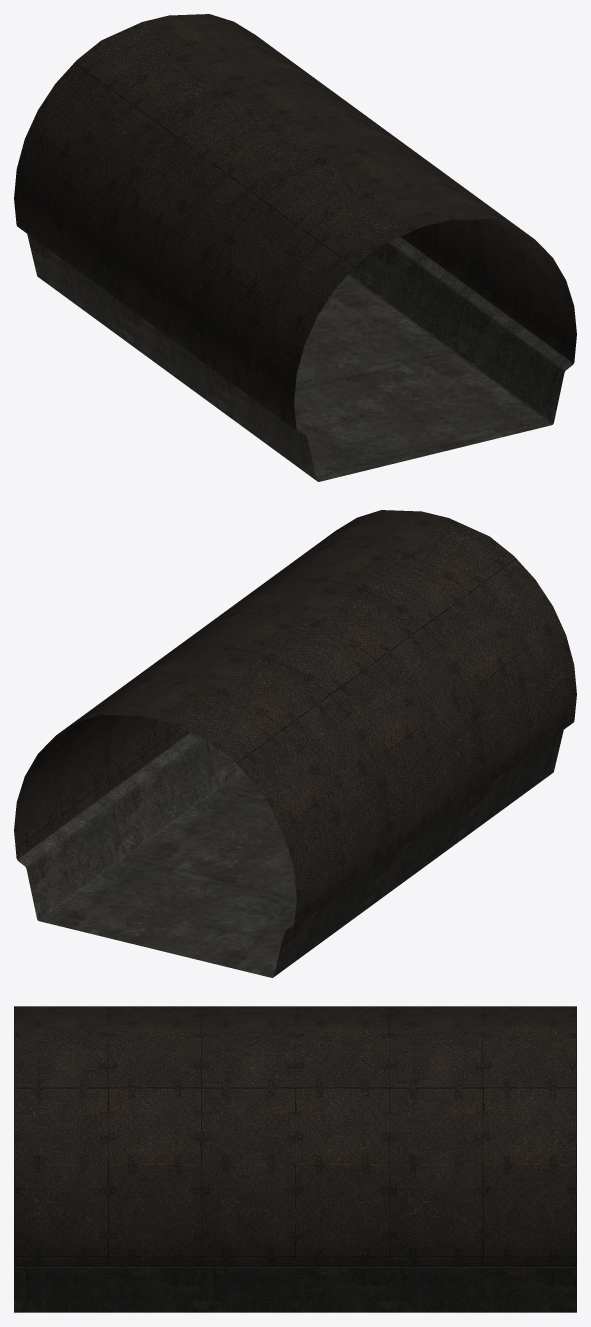
Rendered from tunnel_straight.glb.
The picture shows the model from 3 angles, top to bottom: view 1: azimuth 30°, elevation 25°; view 2: azimuth 150°, elevation 25°; view 3: azimuth 270°, elevation 25°; orthographic projection.
Visible parts, largest first — view 1: tunnel_straight; view 2: tunnel_straight; view 3: tunnel_straight.
Part boxes in pixels (x1=…): tunnel_straight: x1=14, y1=14, x2=576, y2=481; tunnel_straight: x1=14, y1=510, x2=576, y2=977; tunnel_straight: x1=14, y1=1006, x2=576, y2=1312.
Bounding box in the file's own units: 3.5 × 2.72 × 6.
Materials: 2 (2 with a texture image).
